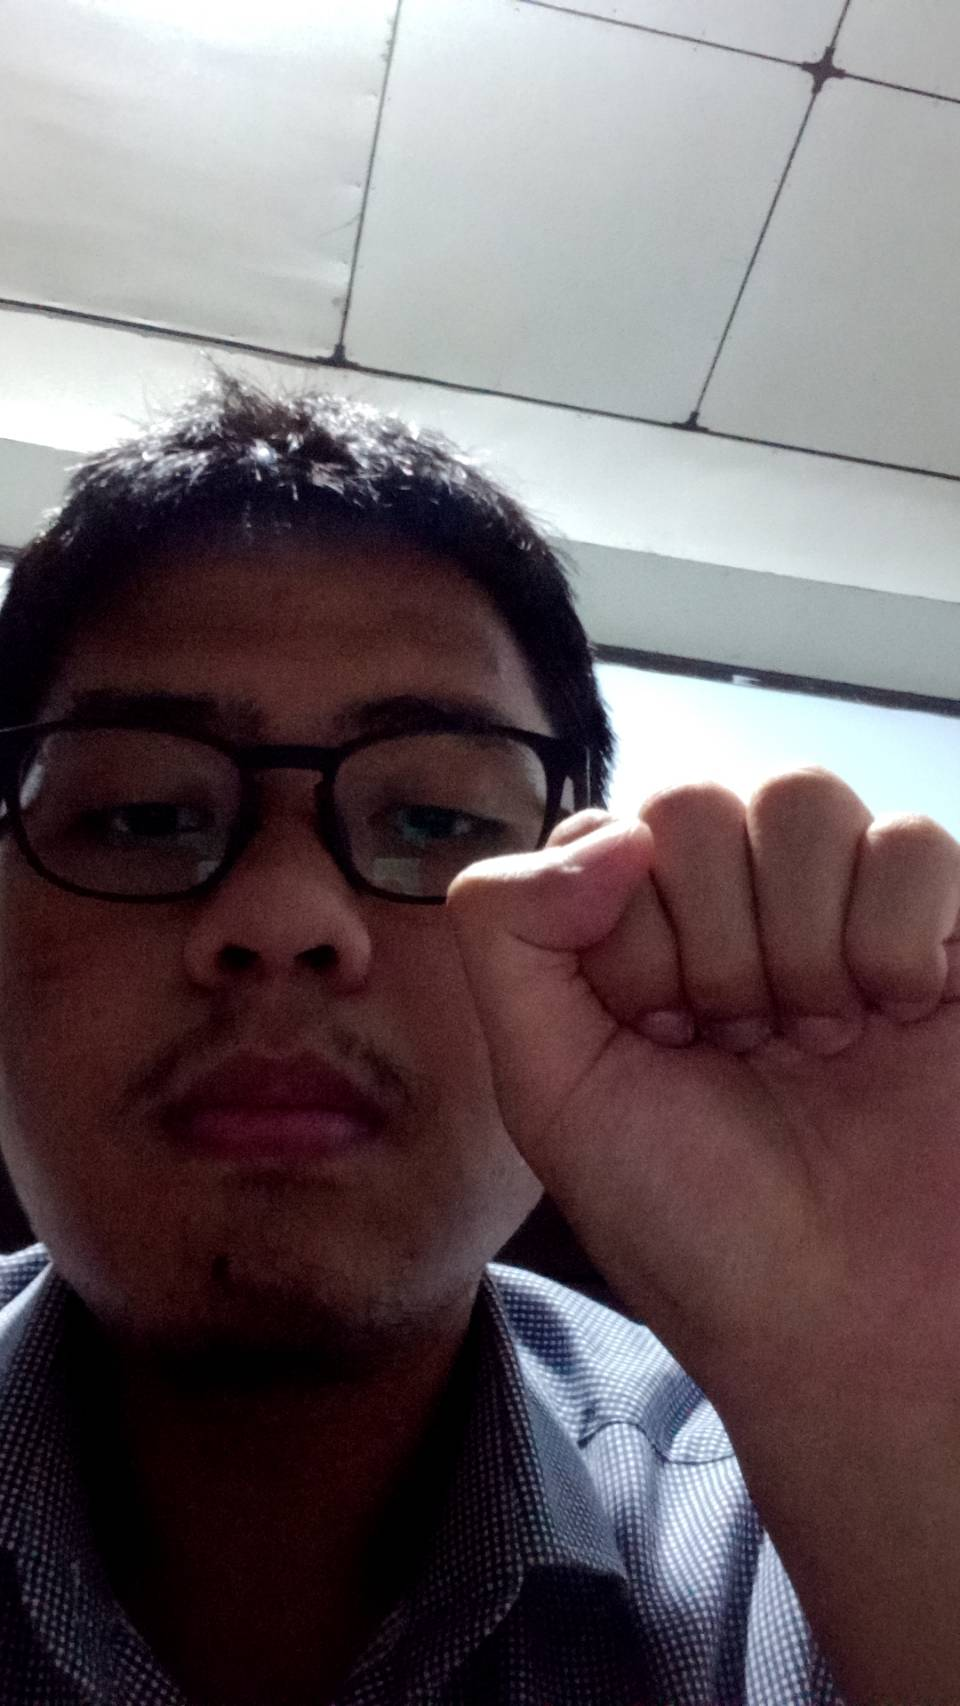A: (449, 758, 960, 1278)
